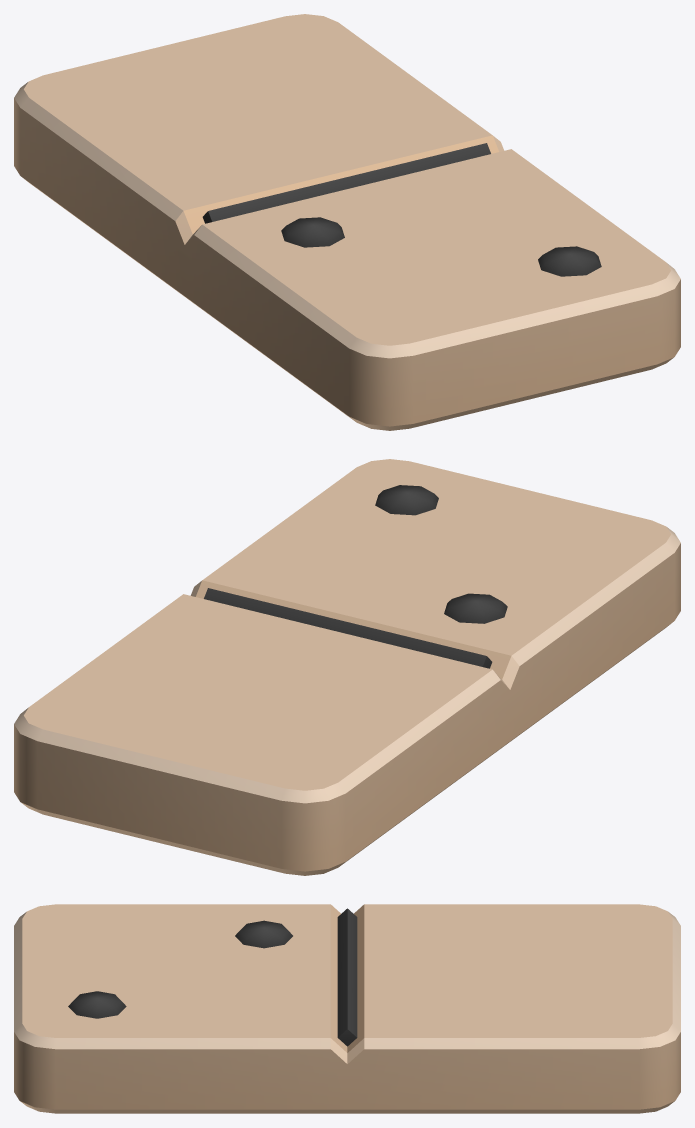
File: domino_tile_0-2.gltf
The picture shows the model from 3 angles, top to bottom: view 1: azimuth 30°, elevation 25°; view 2: azimuth 150°, elevation 25°; view 3: azimuth 270°, elevation 25°; orthographic projection. The views are drawn at different scales.
Visible parts, largest first — view 1: domino_tile_0-2; view 2: domino_tile_0-2; view 3: domino_tile_0-2.
Boxes of the visible parts, box(x1,y1,x2,y2) form: domino_tile_0-2: box(14, 14, 680, 430); domino_tile_0-2: box(14, 459, 680, 875); domino_tile_0-2: box(14, 904, 680, 1113).
Size of the model in its own units: 1 by 0.2767 by 2.
Materials: 1 (1 with a texture image).
